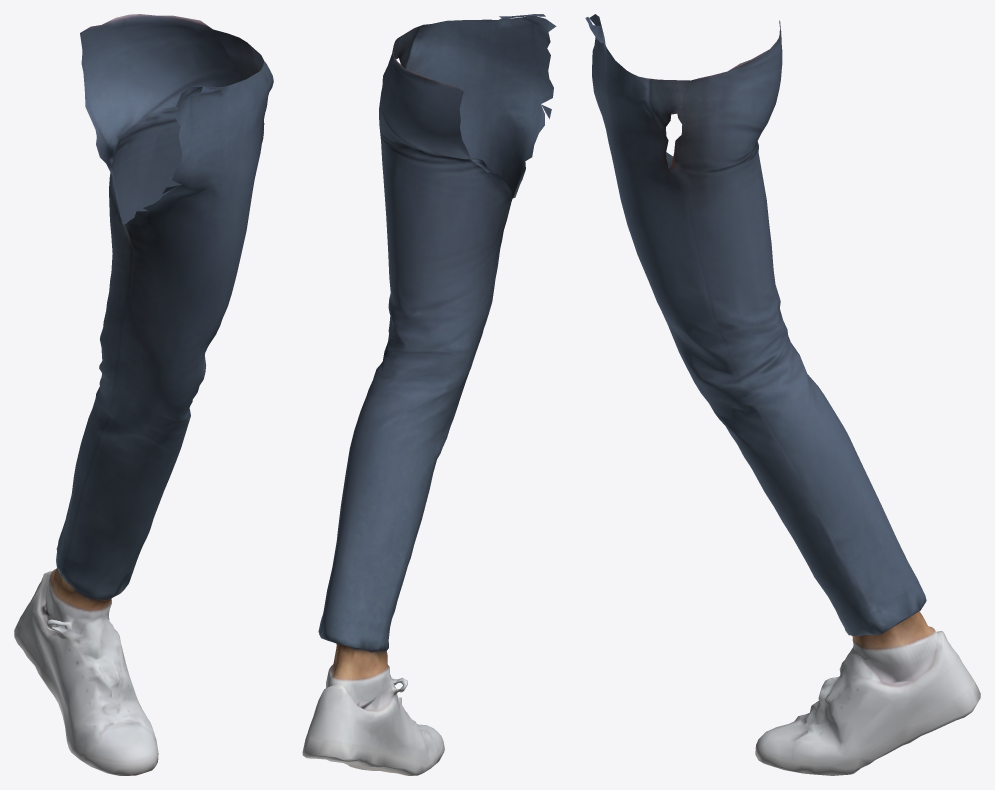
Rendered from leftLeg.obj.
3 views of the same model, side by side, from view 1: azimuth 30°, elevation 25°; view 2: azimuth 150°, elevation 25°; view 3: azimuth 270°, elevation 25° (orthographic). The views are drawn at different scales.
Visible parts, largest first — view 1: leftLeg; view 2: leftLeg; view 3: leftLeg.
Boxes of the visible parts, x1,y1,x2,y2 form: leftLeg: (14,14,273,775); leftLeg: (302,14,556,775); leftLeg: (585,14,980,775).
Bounding box in the file's own units: 2.25 × 11.91 × 5.91.
1 material, 1 textured.
